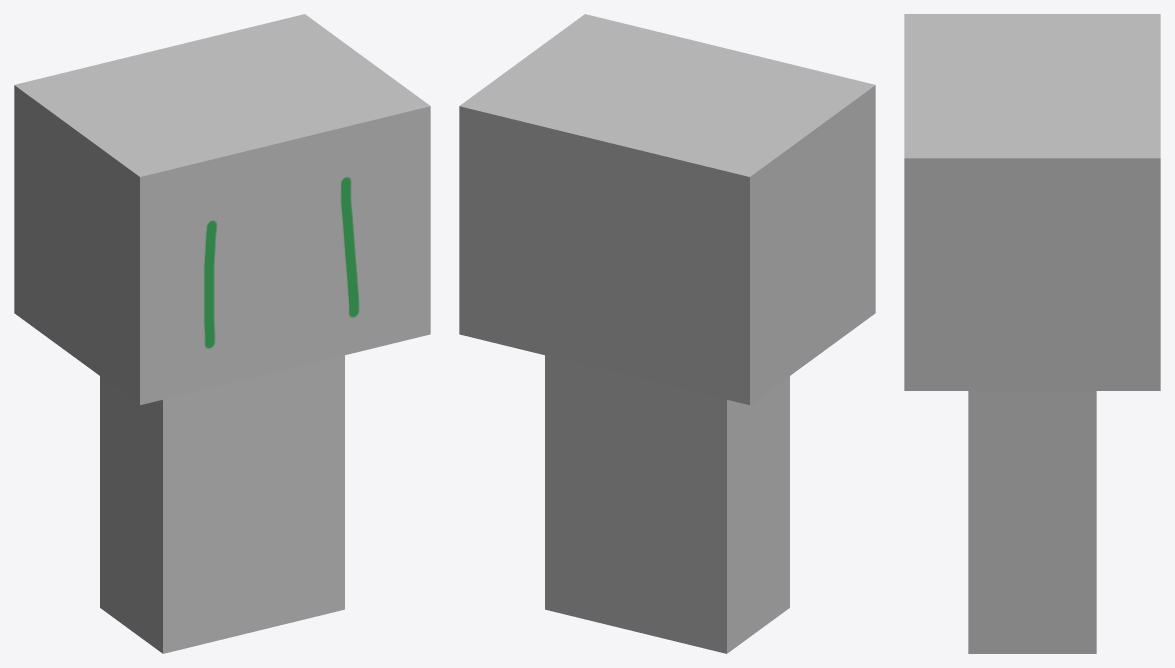
The model's file is Boss.obj.
3 renders of one model, left to right at view 1: azimuth 30°, elevation 25°; view 2: azimuth 150°, elevation 25°; view 3: azimuth 270°, elevation 25°, orthographic.
Parts seen in each view (by area): view 1: 立方体, Cube.001; view 2: 立方体, Cube.001; view 3: 立方体, Cube.001.
Part boxes in pixels (<box>): 立方体: <box>14,14,430,405</box>; Cube.001: <box>100,355,344,653</box>; 立方体: <box>459,14,875,405</box>; Cube.001: <box>545,355,789,653</box>; 立方体: <box>904,14,1160,390</box>; Cube.001: <box>968,391,1096,653</box>.
Size of the model in its own units: 1.6 by 2.7 by 1.2.
2 materials, 1 textured.
